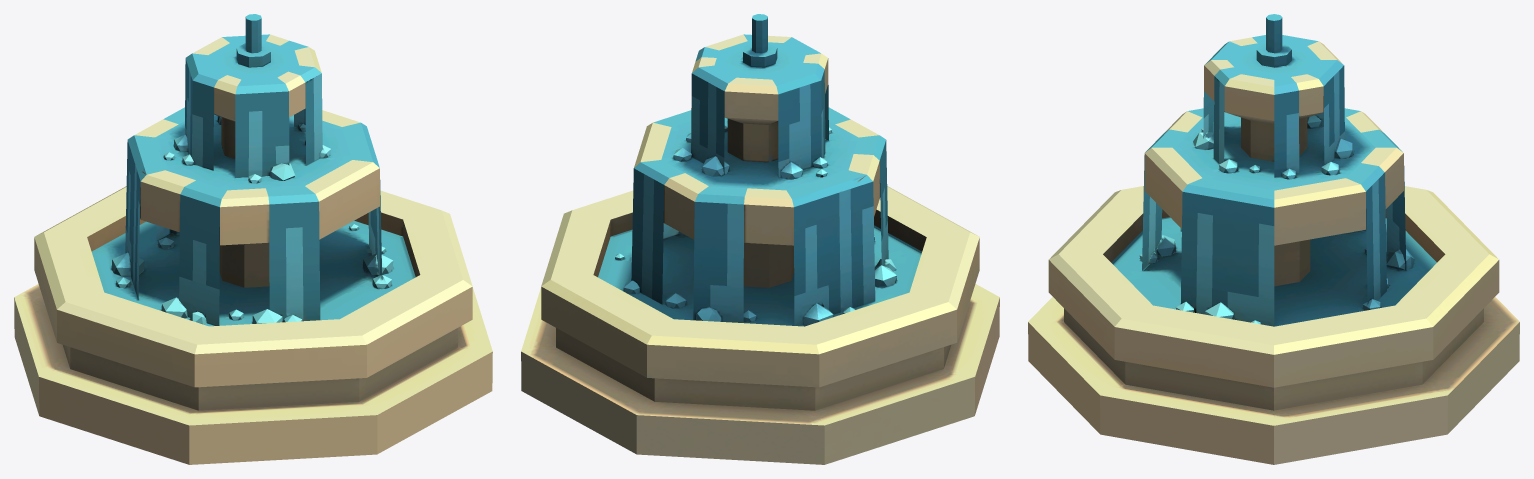
The model's file is fountain.fbx.
3 renders of one model, left to right at view 1: azimuth 30°, elevation 25°; view 2: azimuth 150°, elevation 25°; view 3: azimuth 270°, elevation 25°, orthographic.
Visible parts, largest first — view 1: node_id3; view 2: node_id3; view 3: node_id3.
Boxes of the visible parts, left/top/right/bottom form: node_id3: left=14, top=14, right=492, bottom=464; node_id3: left=521, top=14, right=999, bottom=464; node_id3: left=1028, top=14, right=1519, bottom=464.
Size of the model in its own units: 0.512 by 0.3949 by 0.512.
1 material, 1 textured.
